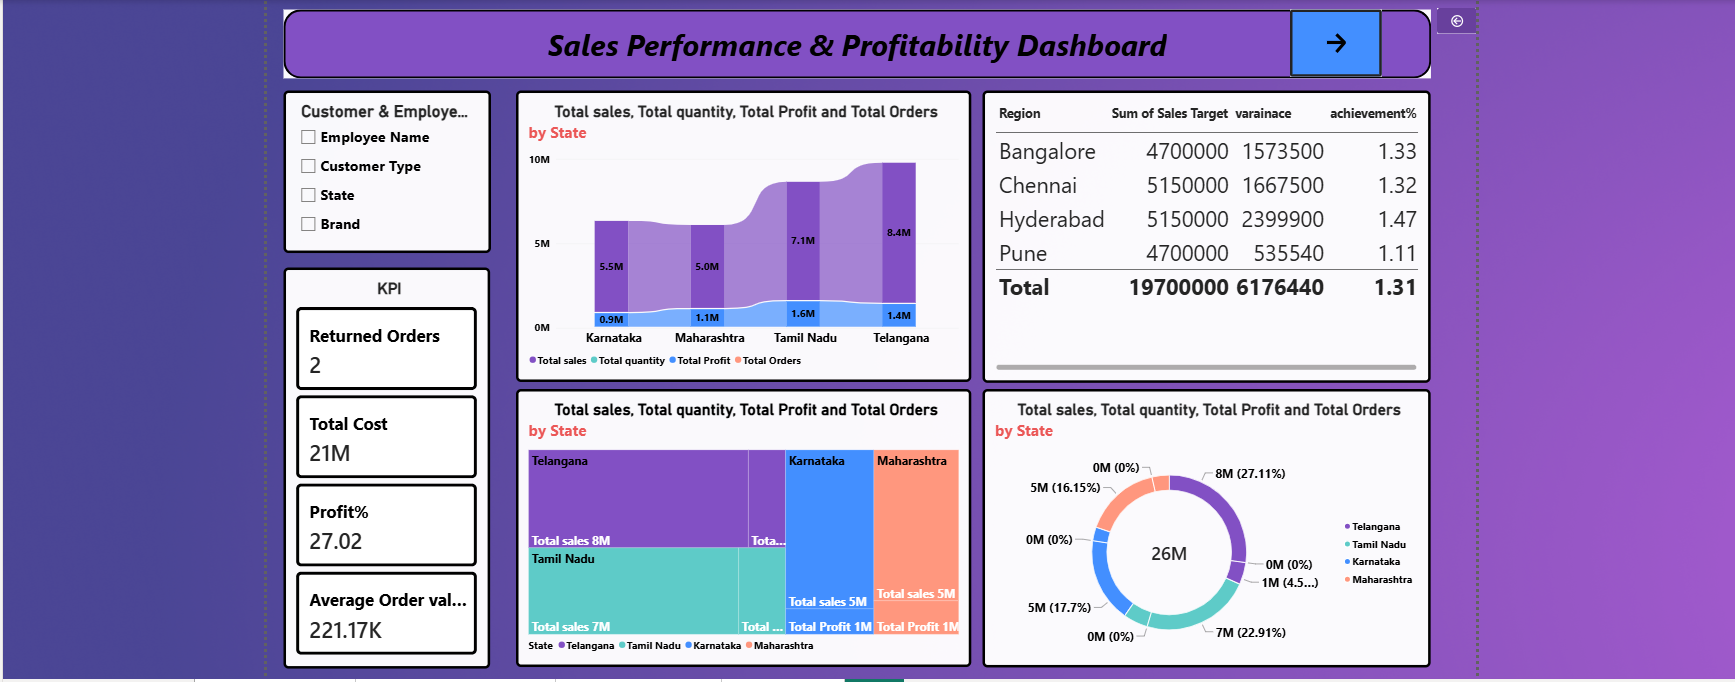

Layout of this report page (visuals, bound fields, positions):
{"tool":"powerbi","page":{"name":"Detailed Analysis","canvas":[1920,1080],"ordinal":1},"visuals":[{"type":"ribbonChart","fields":{"Category":["Employess.Employee Name","Customers.Customer Type","Customers.State","Products.Brand"],"Y":["Measure Table.Total sales","Measure Table.Total quantity","Measure Table.Total Profit","Measure Table.Total Orders"]},"box":[396.1,145.5,722.9,462.9],"z":0},{"type":"tableEx","fields":{"Values":["Region table.Region","Sum(Targets.Sales Target)","Targets.varainace","Targets.achievement%"]},"box":[1136.7,145.7,711.7,463.9],"z":1000},{"type":"treemap","fields":{"Group":["Employess.Employee Name","Customers.Customer Type","Customers.State","Products.Brand"],"Values":["Measure Table.Total sales","Measure Table.Total quantity","Measure Table.Total Profit","Measure Table.Total Orders"]},"box":[395.9,619.4,722.9,441.4],"z":2000},{"type":"donutChart","fields":{"Category":["Employess.Employee Name","Customers.Customer Type","Customers.State","Products.Brand"],"Y":["Measure Table.Total sales","Measure Table.Total quantity","Measure Table.Total Profit","Measure Table.Total Orders"]},"box":[1136.7,619.4,711.7,442],"z":3000},{"type":"shape","box":[26.7,17,1821.6,109.3],"z":4000},{"type":"cardVisual","title":"KPI","fields":{"Data":["Measure Table.Returned Orders","Measure Table.Total Cost","Measure Table.Profit%","Measure Table.Average Order value"]},"box":[26.7,425,327.9,636.4],"z":5000},{"type":"slicer","fields":{"Values":["Parameter3.Parameter3"]},"box":[26,144.9,329,258],"z":7000},{"type":"actionButton","box":[1624.9,17,145.7,106.9],"z":14000},{"type":"actionButton","box":[1856.8,13.6,63.6,40.9],"z":16000}]}

Visuals, with their boxes on the page's 1920x1080 design canvas (x1, y1, x2, y2). These are canvas units, not pixel positions in the 1735x682 screenshot, which may show the page scaled, cropped or inside an application window:
ribbonChart - Employess.Employee Name x Customers.Customer Type: crop(396, 146, 1119, 608)
tableEx - Region table.Region x Sum(Targets.Sales Target): crop(1137, 146, 1848, 610)
treemap - Employess.Employee Name x Customers.Customer Type: crop(396, 619, 1119, 1061)
donutChart - Employess.Employee Name x Customers.Customer Type: crop(1137, 619, 1848, 1061)
shape: crop(27, 17, 1848, 126)
"KPI" cardVisual: crop(27, 425, 355, 1061)
slicer - Parameter3.Parameter3: crop(26, 145, 355, 403)
actionButton: crop(1625, 17, 1771, 124)
actionButton: crop(1857, 14, 1920, 54)
